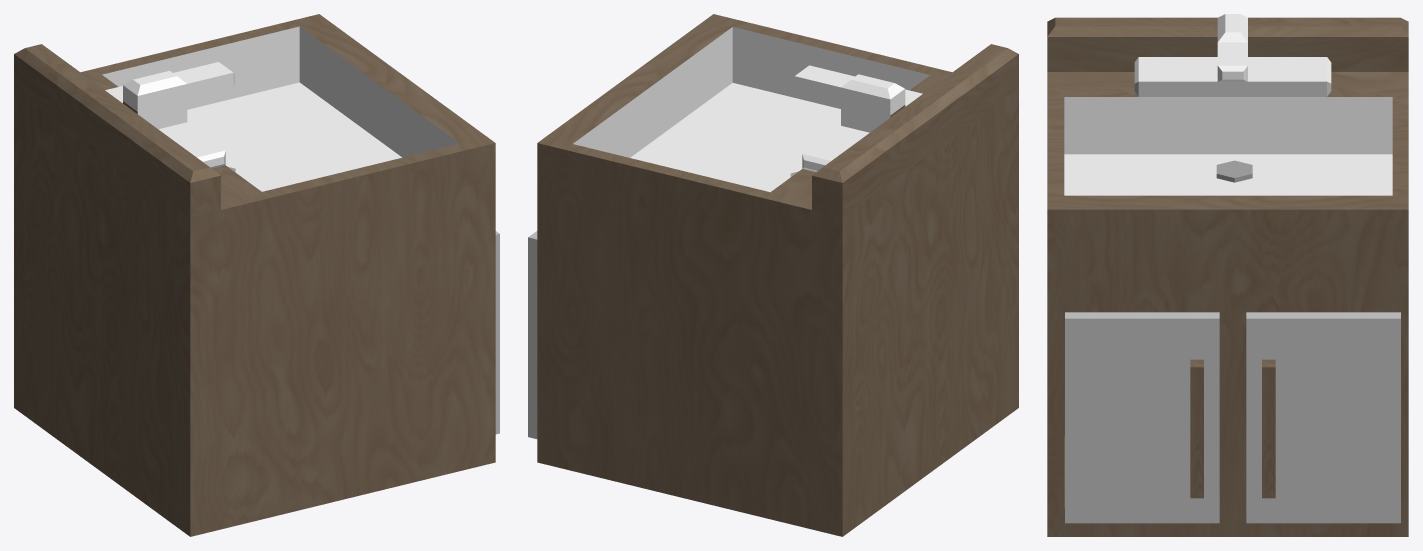
File: sink.fbx
3 views of the same model, side by side, from view 1: azimuth 30°, elevation 25°; view 2: azimuth 150°, elevation 25°; view 3: azimuth 270°, elevation 25° (orthographic). The views are drawn at different scales.
Visible parts, largest first — view 1: sink_counter, sinkdoor1; view 2: sink_counter, pasted__pasted__pasted__pasted__pCube3; view 3: sink_counter, sinkdoor1, pasted__pasted__pasted__pasted__pCube3, pasted__pasted__pasted__pCylinder1.
Boxes of the visible parts, bbox=[...] form: sink_counter: bbox=[14, 14, 495, 536]; sinkdoor1: bbox=[495, 231, 499, 434]; sink_counter: bbox=[537, 14, 1018, 536]; pasted__pasted__pasted__pasted__pCube3: bbox=[528, 231, 537, 438]; sink_counter: bbox=[1047, 14, 1408, 536]; sinkdoor1: bbox=[1065, 312, 1219, 523]; pasted__pasted__pasted__pasted__pCube3: bbox=[1246, 312, 1400, 523]; pasted__pasted__pasted__pCylinder1: bbox=[1216, 160, 1252, 182].
Bounding box in the file's own units: 1.09 × 1.19 × 1.
